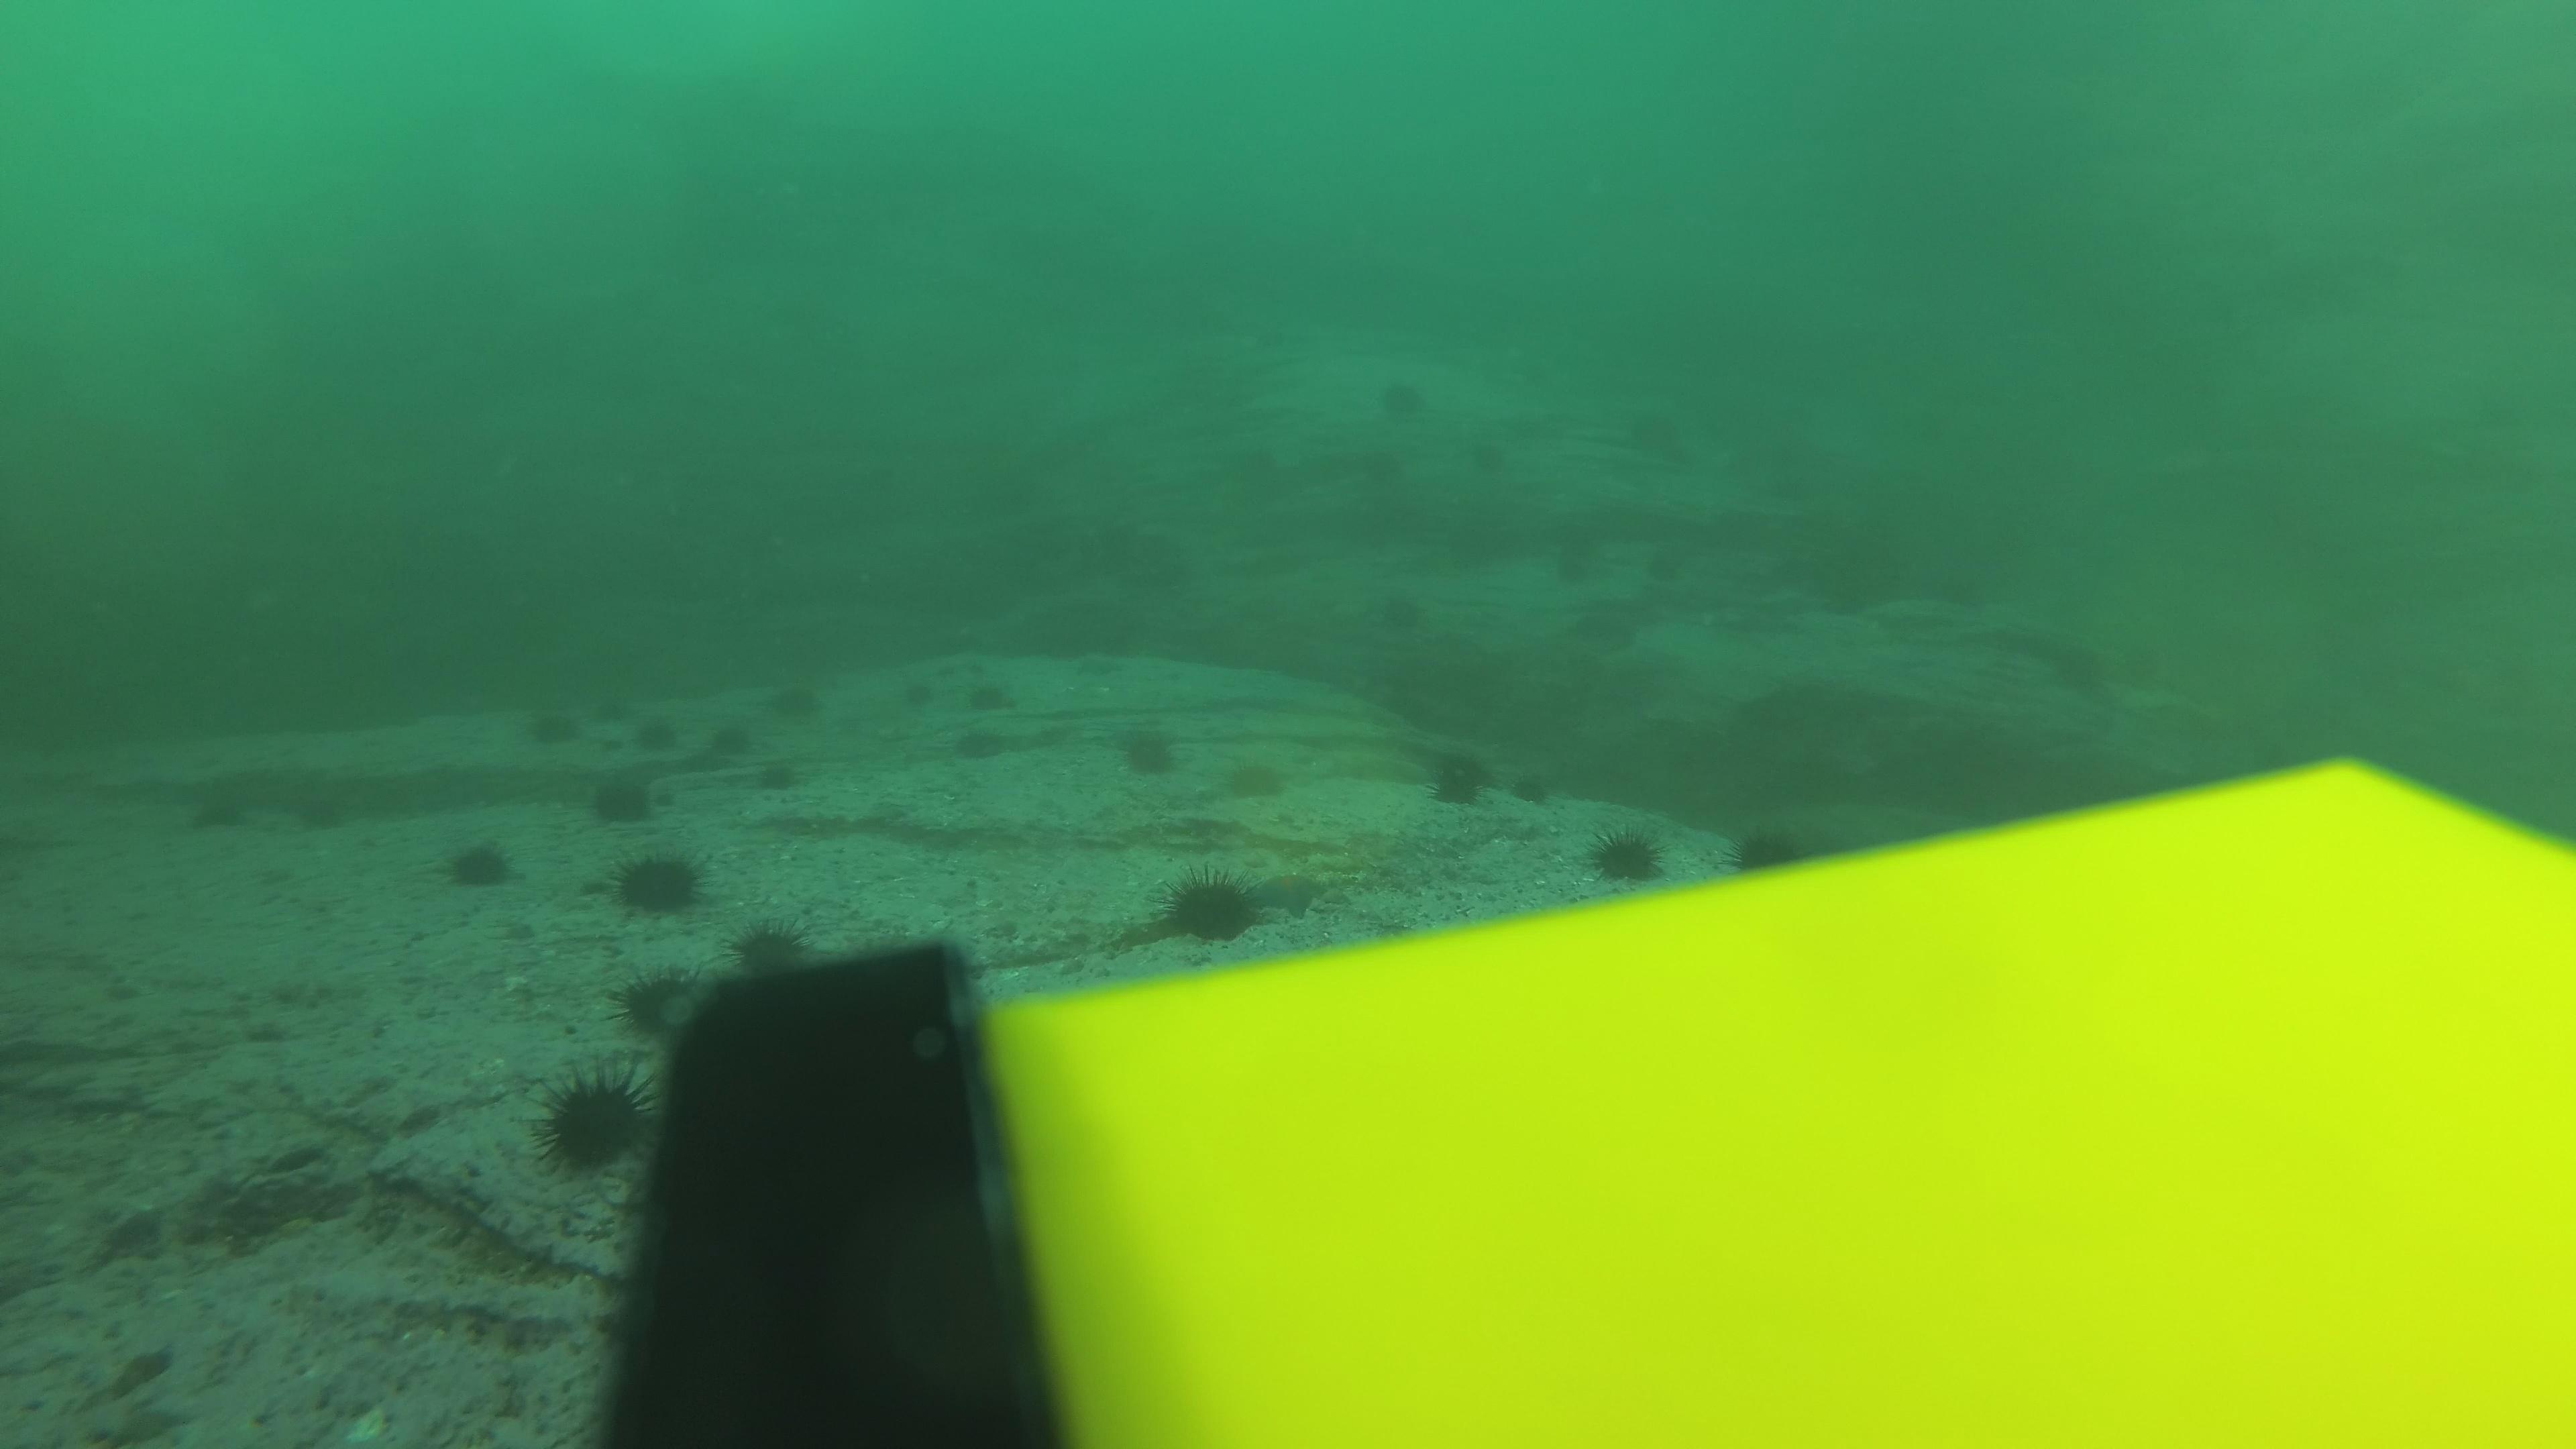echinus: (529, 1062, 658, 1180), (1150, 863, 1270, 950), (610, 961, 713, 1044), (607, 844, 709, 922), (1582, 819, 1672, 892), (1415, 740, 1502, 812), (1497, 766, 1582, 839), (1723, 816, 1813, 881), (727, 916, 816, 980), (1108, 715, 1189, 784), (172, 778, 257, 844), (435, 832, 520, 895), (278, 786, 363, 849), (2042, 633, 2127, 697), (1799, 568, 1884, 632), (586, 768, 663, 830), (621, 718, 686, 771), (582, 683, 648, 736), (1545, 527, 1610, 580), (518, 697, 582, 750), (695, 711, 759, 764), (764, 678, 828, 731), (948, 720, 1012, 773), (954, 669, 1017, 722), (893, 667, 957, 720), (1233, 747, 1297, 800), (1375, 587, 1438, 640), (1537, 545, 1601, 598), (1633, 540, 1697, 593), (1635, 400, 1698, 453), (1456, 433, 1520, 487), (1352, 439, 1415, 492), (1238, 439, 1302, 492), (1362, 370, 1426, 421), (748, 750, 809, 796)
starfish: (1244, 867, 1330, 924)
